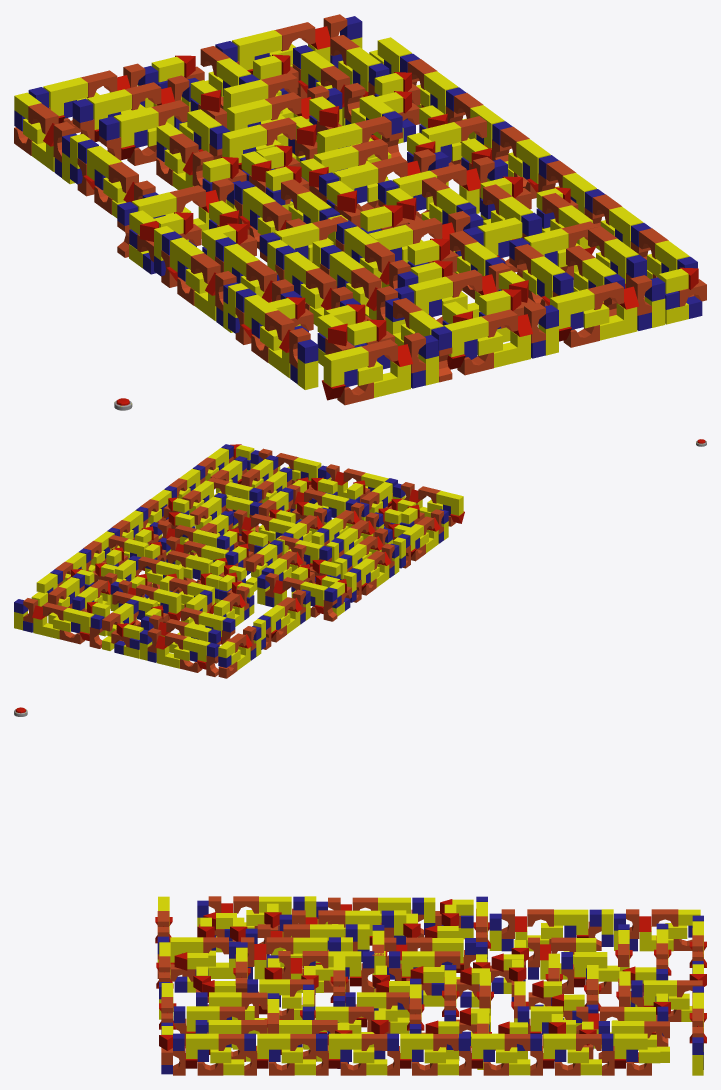
File: Labirinto.fbx
The picture shows the model from 3 angles, top to bottom: view 1: azimuth 30°, elevation 25°; view 2: azimuth 150°, elevation 25°; view 3: azimuth 270°, elevation 25°; orthographic projection. The views are drawn at different scales.
Visible parts, largest first — view 1: Parede5.003, Parede5.004, Parede5.005, Parede3, Parede3.002, Parede3.013, Parede3.016, Parede3.014, Parede3.011, Parede3.010, Parede3.005, Parede3.004 (+71 smaller); view 2: Parede3.016, Parede3.015, Parede5, Parede3.013, Parede3.002, Parede3, Parede5.003, Parede3.014, Parede5.034, Parede3.011, Parede3.004, Parede3.007 (+47 smaller); view 3: Parede3.013, Parede3.006, Parede5.018, Parede5.020, Parede5.023, Parede5.019, Parede5.021, Parede5.022, Parede3.014, Parede3.005, Parede3.003, Parede3 (+43 smaller).
Boxes of the visible parts, <box> form: Parede5.003: <box>322,332,438,405</box>; Parede5.004: <box>443,302,558,375</box>; Parede5.005: <box>550,275,665,347</box>; Parede3: <box>228,283,318,389</box>; Parede3.002: <box>154,226,237,332</box>; Parede3.013: <box>70,134,158,218</box>; Parede3.016: <box>215,14,362,74</box>; Parede3.014: <box>14,92,76,184</box>; Parede3.011: <box>72,75,198,143</box>; Parede3.010: <box>99,100,187,165</box>; Parede3.005: <box>312,239,405,334</box>; Parede3.004: <box>267,239,360,326</box>; Parede3.016: <box>14,598,104,648</box>; Parede3.015: <box>139,628,219,676</box>; Parede5: <box>257,573,337,621</box>; Parede3.013: <box>253,589,310,649</box>; Parede3.002: <box>343,543,399,602</box>; Parede3: <box>393,509,448,568</box>; Parede5.003: <box>393,482,464,526</box>; Parede3.014: <box>218,625,261,678</box>; Parede5.034: <box>110,580,181,620</box>; Parede3.011: <box>141,614,220,663</box>; Parede3.004: <box>326,512,383,562</box>; Parede3.007: <box>149,520,229,555</box>; Parede3.013: <box>489,909,613,951</box>; Parede3.006: <box>266,951,385,992</box>; Parede5.018: <box>173,1033,244,1075</box>; Parede5.020: <box>316,1033,387,1075</box>; Parede5.023: <box>530,1033,601,1075</box>; Parede5.019: <box>244,1033,315,1075</box>; Parede5.021: <box>387,1033,458,1075</box>; Parede5.022: <box>459,1033,530,1075</box>; Parede3.014: <box>614,909,700,951</box>; Parede3.005: <box>229,937,352,979</box>; Parede3.003: <box>279,910,406,951</box>; Parede3: <box>197,896,316,937</box>.
Bounding box in the file's own units: 10220 × 2074 × 11600.
